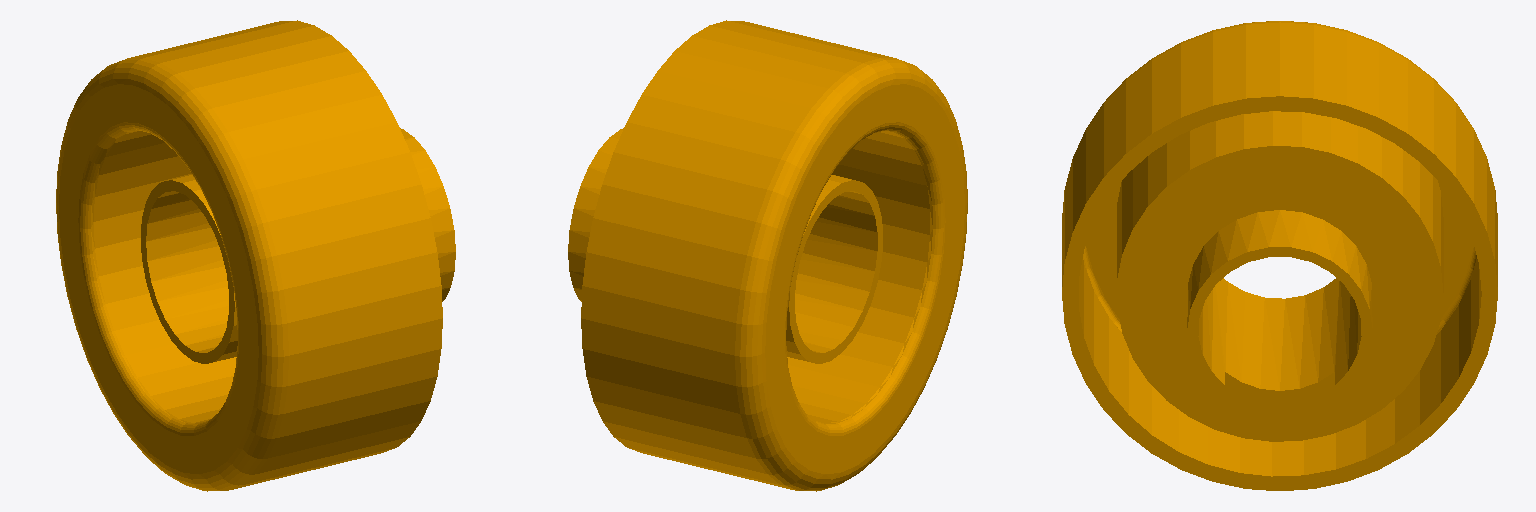
URDF robot description (RearWheelLeft):
<?xml version="1.0"?>
<robot name="RearWheelLeft">
  <link name="base">
   <visual>
     <origin xyz="0 0 0" rpy="0 0 0" />
       <geometry>
        <mesh filename="RearWheelLeft.stl" scale="1.0 1.0 1.0"/>
      </geometry>
   </visual>
   <collision>
     <origin xyz="0 0 0" rpy="0 0 0" />
       <geometry>
        <mesh filename="RearWheelLeft.stl" scale="1.0 1.0 1.0"/>
       </geometry>
    </collision>
  </link>
</robot>

--- What the picture shows (computed from the rendered views, not written in the file) ---
The picture shows the robot from 3 angles, left to right: view 1: azimuth 30°, elevation 25°; view 2: azimuth 150°, elevation 25°; view 3: azimuth 270°, elevation 25°; orthographic projection.
Robot: RearWheelLeft — 1 links, 0 joints (none); root link base; default pose: all joints at 0.
Visible links, largest first — view 1: base; view 2: base; view 3: base.
Boxes of the visible links, box(x1,y1,x2,y2) form: base: box(56, 20, 455, 491); base: box(568, 20, 967, 491); base: box(1062, 21, 1497, 490).
Size in the robot's own frame: 0.026 by 0.04 by 0.04 metres.
Meshes: 1 distinct files referenced, 1 mesh visuals loaded (1 binary STL).
